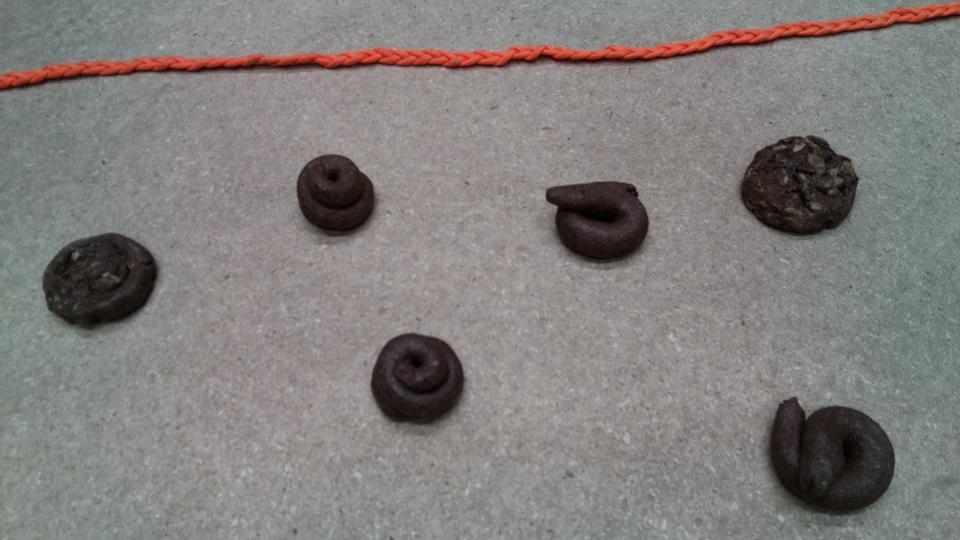poop: (765, 394, 899, 519), (738, 131, 862, 239), (39, 228, 163, 333), (367, 329, 467, 429), (543, 178, 651, 265), (294, 149, 378, 237)
rope: (1, 1, 959, 93)
